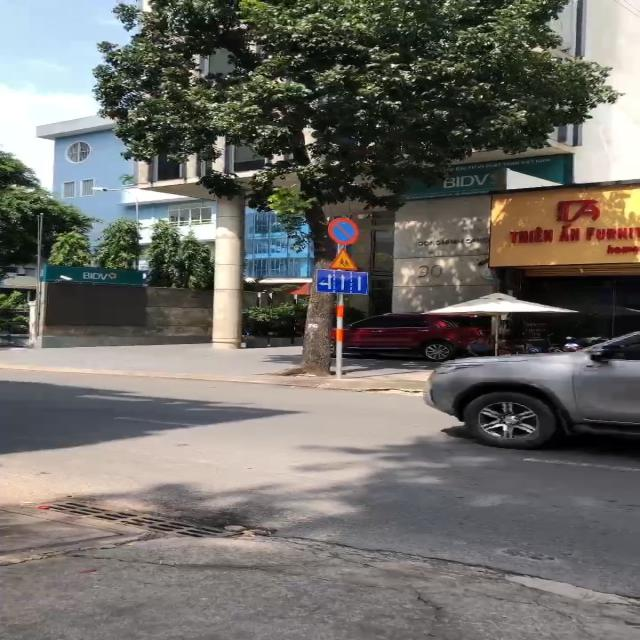Bien bao tre em: (326, 248, 364, 271)
